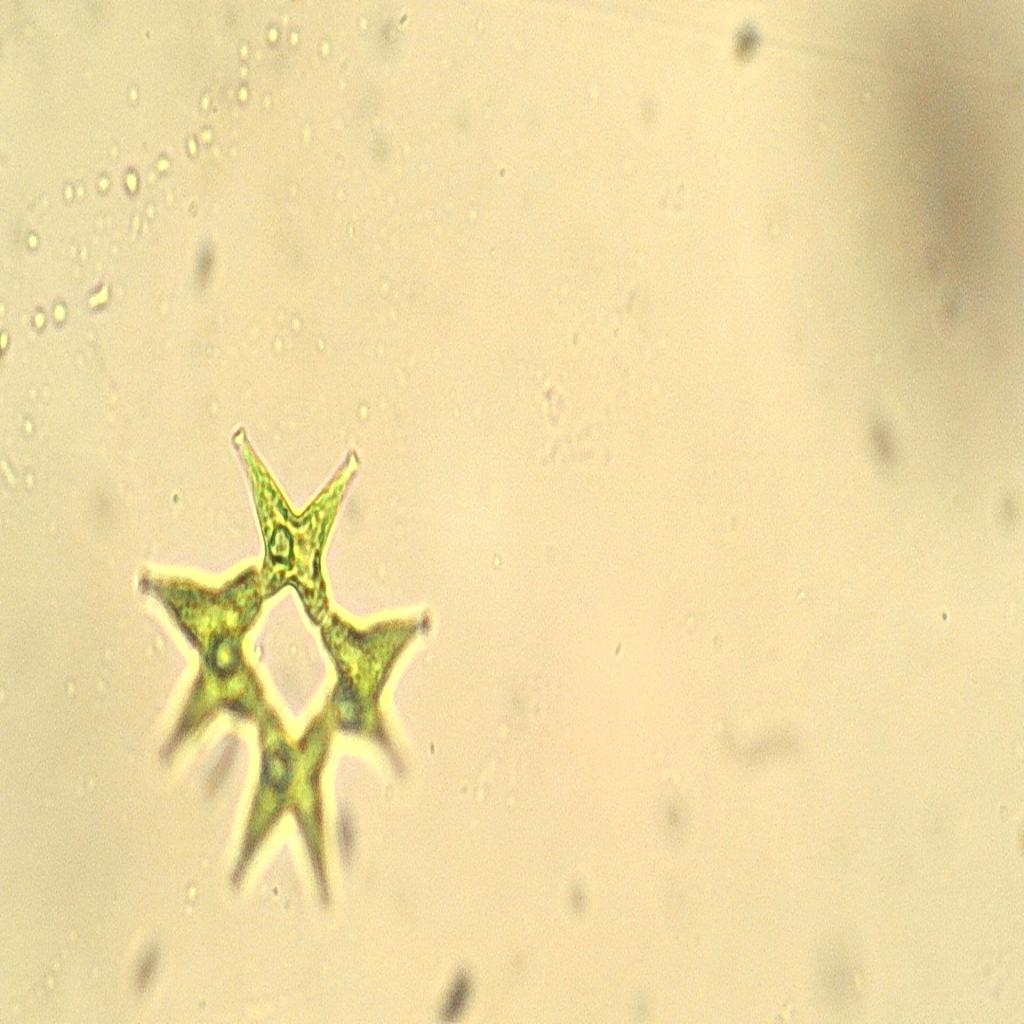Pediastrum_75O: (127, 409, 451, 946)
